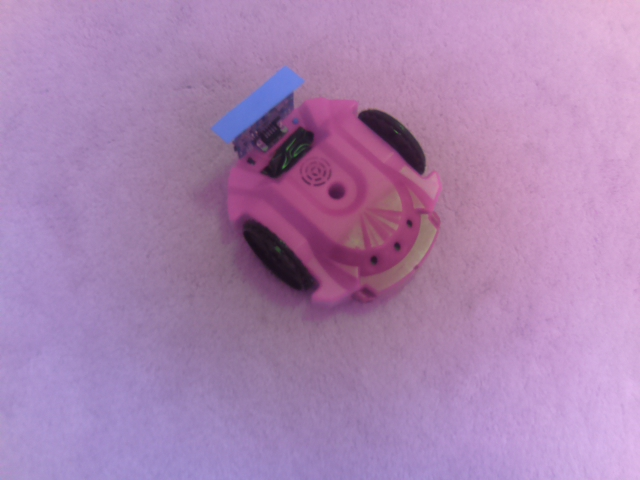board: (206, 63, 310, 165)
chassis: (200, 58, 459, 317)
